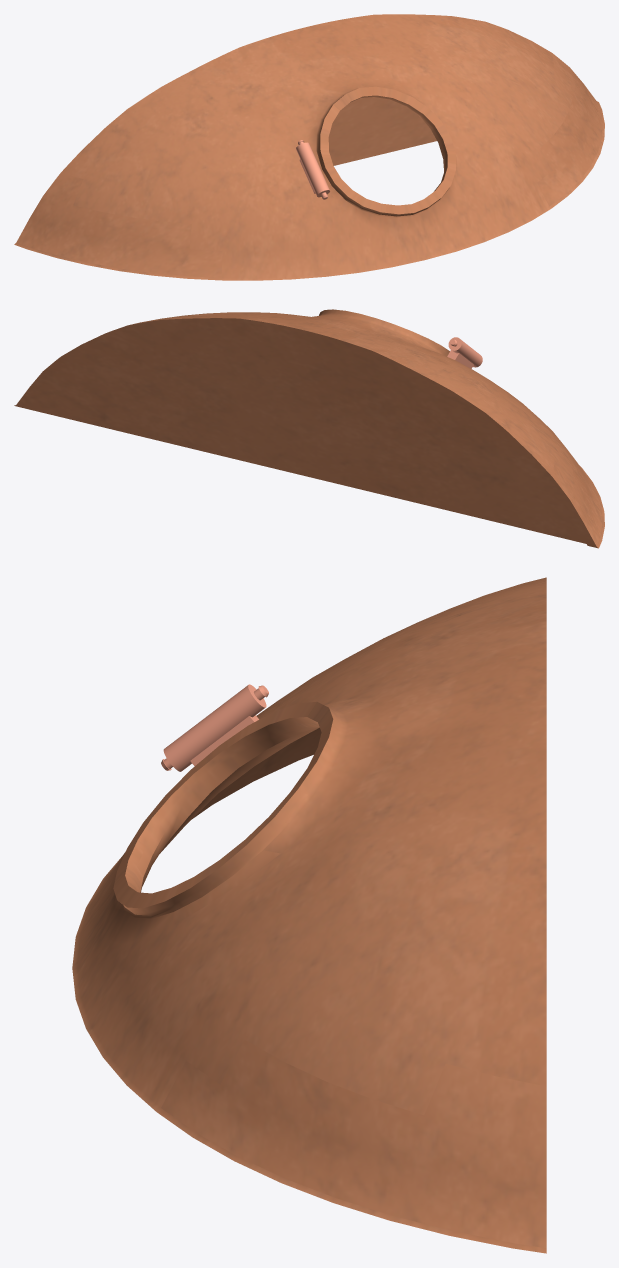
The model's file is Tank_Front_2.fbx.
The picture shows the model from 3 angles, top to bottom: view 1: azimuth 30°, elevation 25°; view 2: azimuth 150°, elevation 25°; view 3: azimuth 270°, elevation 25°; orthographic projection. The views are drawn at different scales.
Parts seen in each view (by area): view 1: 02_BrewTank_Läutern.005; view 2: 02_BrewTank_Läutern.005; view 3: 02_BrewTank_Läutern.005.
Part boxes in pixels (<box>): 02_BrewTank_Läutern.005: <box>14,14,604,280</box>; 02_BrewTank_Läutern.005: <box>14,309,604,548</box>; 02_BrewTank_Läutern.005: <box>72,577,546,1253</box>.
Bounding box in the file's own units: 294 × 70.25 × 103.
